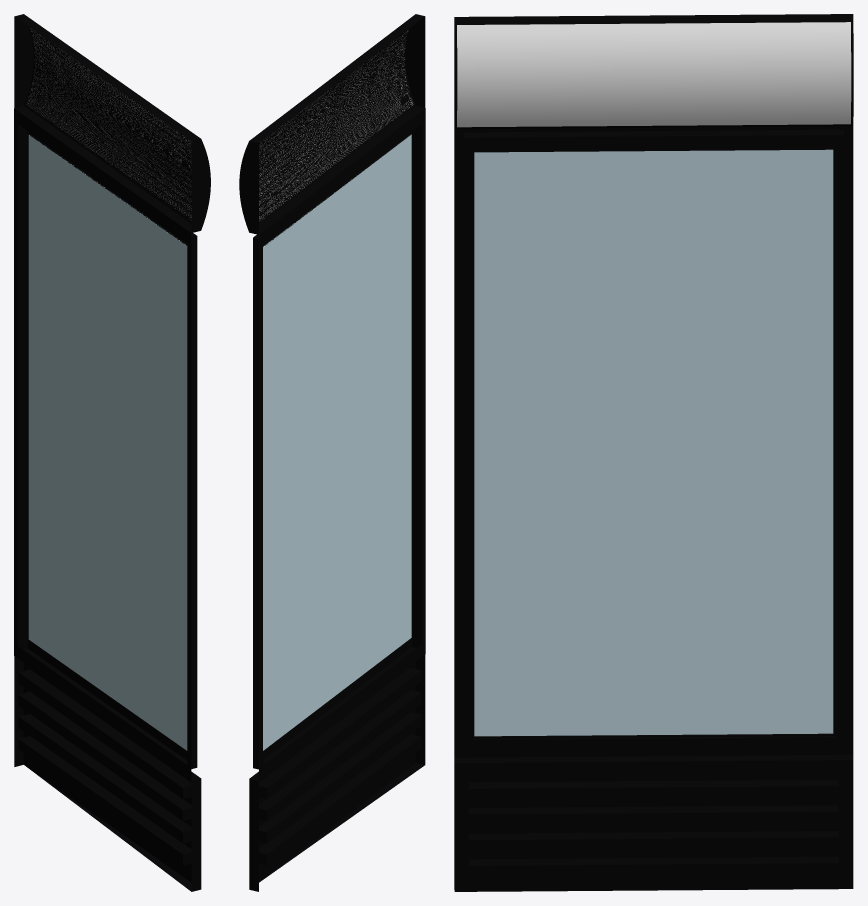
File: Porta01Aberta.glb
3 views of the same model, side by side, from view 1: azimuth 30°, elevation 25°; view 2: azimuth 150°, elevation 25°; view 3: azimuth 270°, elevation 25° (orthographic). The views are drawn at different scales.
Visible parts, largest first — view 1: aGeladeira01.001; view 2: aGeladeira01.001; view 3: aGeladeira01.001.
Part boxes in pixels (x1=…): aGeladeira01.001: x1=14, y1=14, x2=210, y2=891; aGeladeira01.001: x1=239, y1=14, x2=425, y2=891; aGeladeira01.001: x1=454, y1=14, x2=853, y2=891.
Bounding box in the file's own units: 0.0875 × 2.34 × 0.9735.
